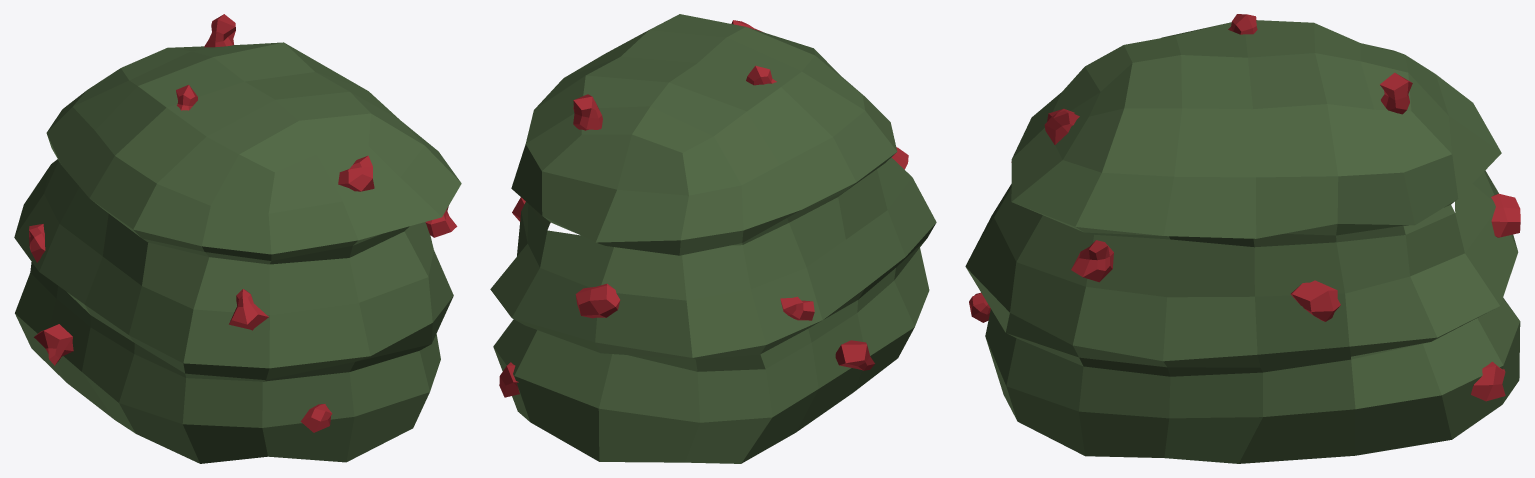
File: BushBerries_1.gltf
3 renders of one model, left to right at view 1: azimuth 30°, elevation 25°; view 2: azimuth 150°, elevation 25°; view 3: azimuth 270°, elevation 25°, orthographic. The views are drawn at different scales.
Visible parts, largest first — view 1: BushBerries_1; view 2: BushBerries_1; view 3: BushBerries_1.
Part boxes in pixels (x1,y1,x2,y2): BushBerries_1: (14, 14, 461, 463); BushBerries_1: (490, 14, 936, 463); BushBerries_1: (965, 14, 1520, 463).
Bounding box in the file's own units: 1.39 × 1.28 × 1.72.
